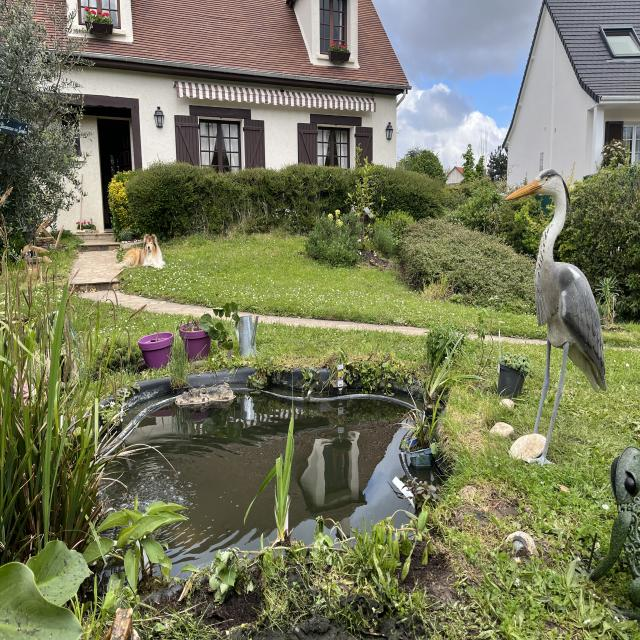Dog: (106, 221, 182, 292)
Heron: (500, 169, 615, 486)
